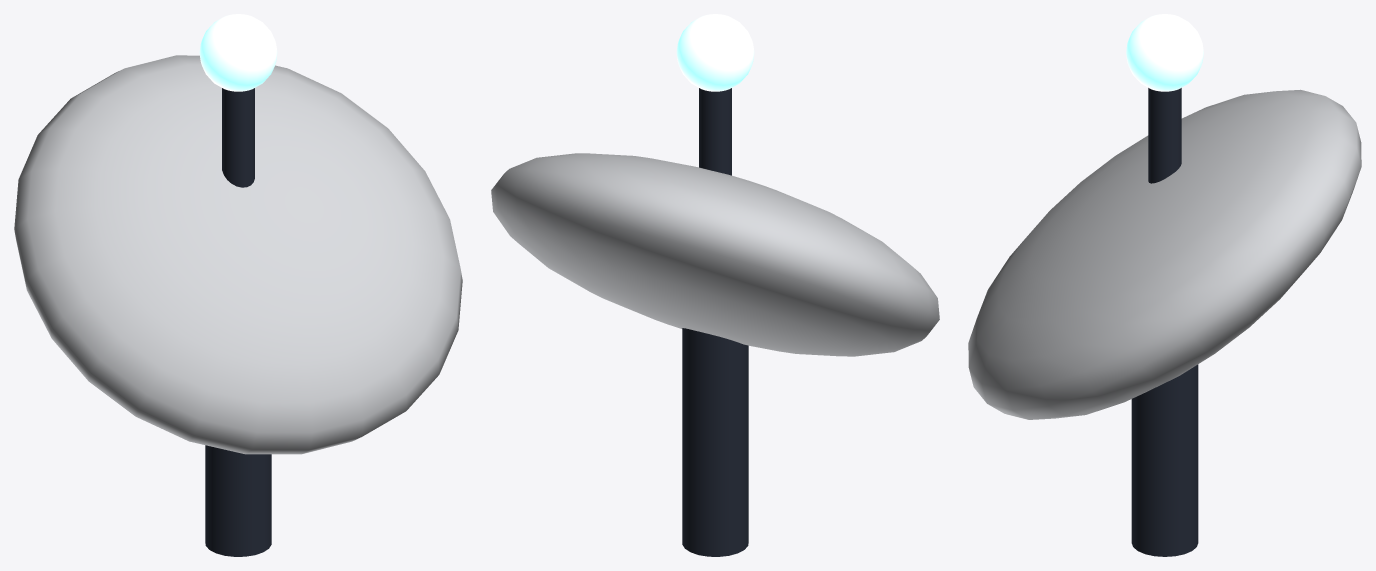
File: top_dish.glb
3 views of the same model, side by side, from view 1: azimuth 30°, elevation 25°; view 2: azimuth 150°, elevation 25°; view 3: azimuth 270°, elevation 25° (orthographic).
Parts seen in each view (by area): view 1: Dish, Post, Tip, Feed; view 2: Dish, Post, Tip, Feed; view 3: Dish, Post, Tip, Feed.
Part boxes in pixels (bbox=[...]): Dish: bbox=[14, 55, 462, 454]; Post: bbox=[205, 445, 271, 556]; Tip: bbox=[199, 14, 277, 91]; Feed: bbox=[222, 88, 254, 187]; Dish: bbox=[491, 153, 939, 356]; Post: bbox=[682, 328, 748, 556]; Tip: bbox=[676, 14, 754, 91]; Feed: bbox=[699, 88, 731, 175]; Dish: bbox=[968, 89, 1361, 419]; Post: bbox=[1131, 364, 1198, 556]; Tip: bbox=[1126, 14, 1203, 91]; Feed: bbox=[1148, 88, 1181, 183].
Bounding box in the file's own units: 0.4168 × 0.52 × 0.3527.
